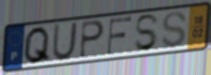F: (105, 15, 133, 57)
P: (78, 19, 106, 60)
Q: (22, 25, 52, 66)
S: (160, 10, 189, 50), (133, 13, 161, 53)
U: (51, 20, 80, 62)
